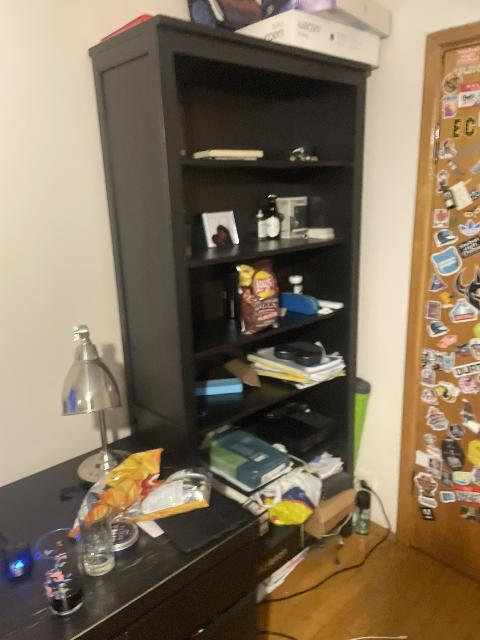Chio Cascaval 125g: (70, 448, 163, 540)
Chio Hula Hoops Cheese 70g: (122, 470, 210, 523)
Lays Beef Grilled Ribs 125g: (235, 259, 282, 336)
